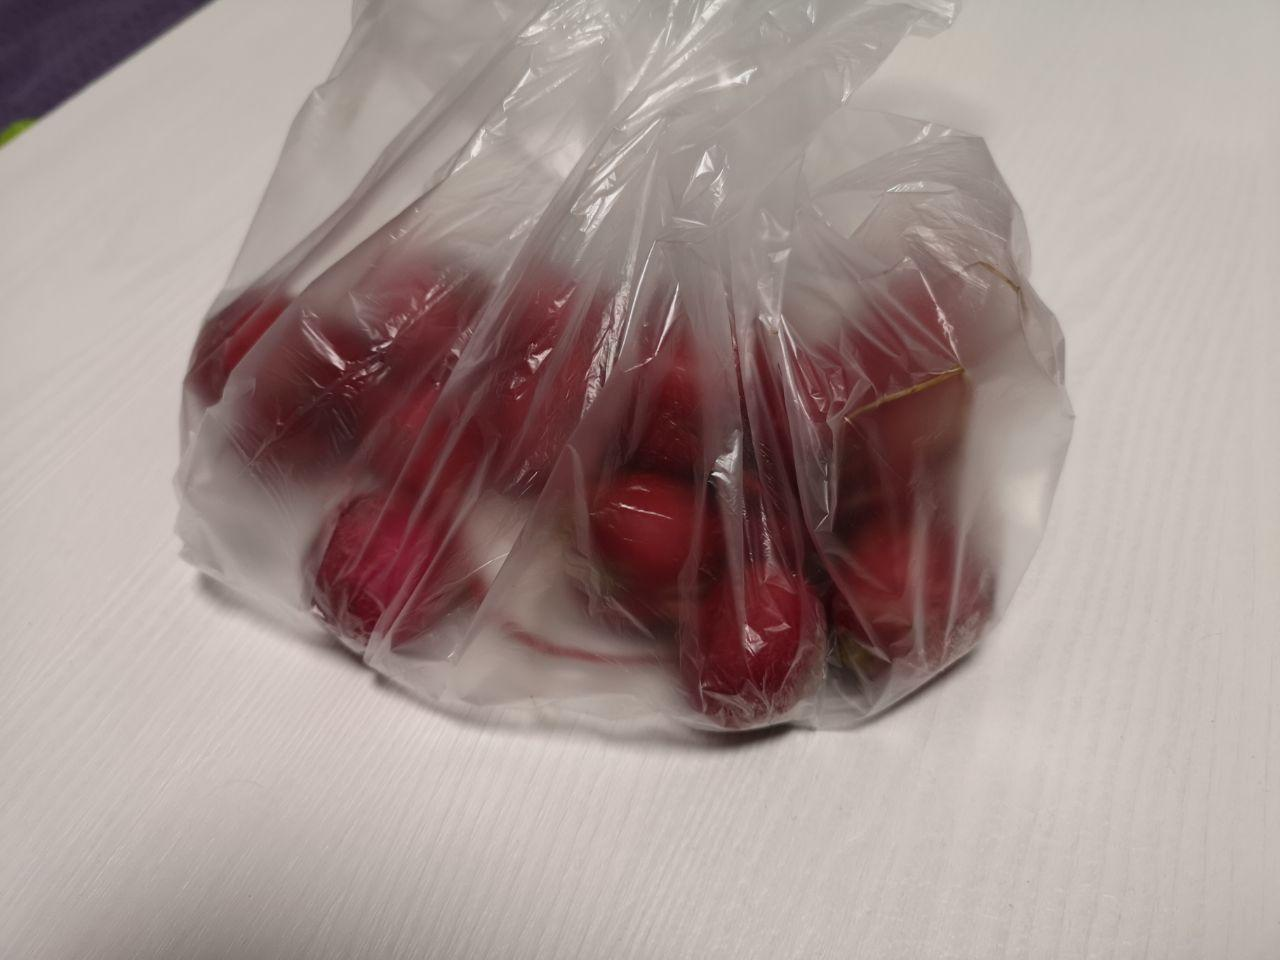redish: (160, 132, 1064, 800)
